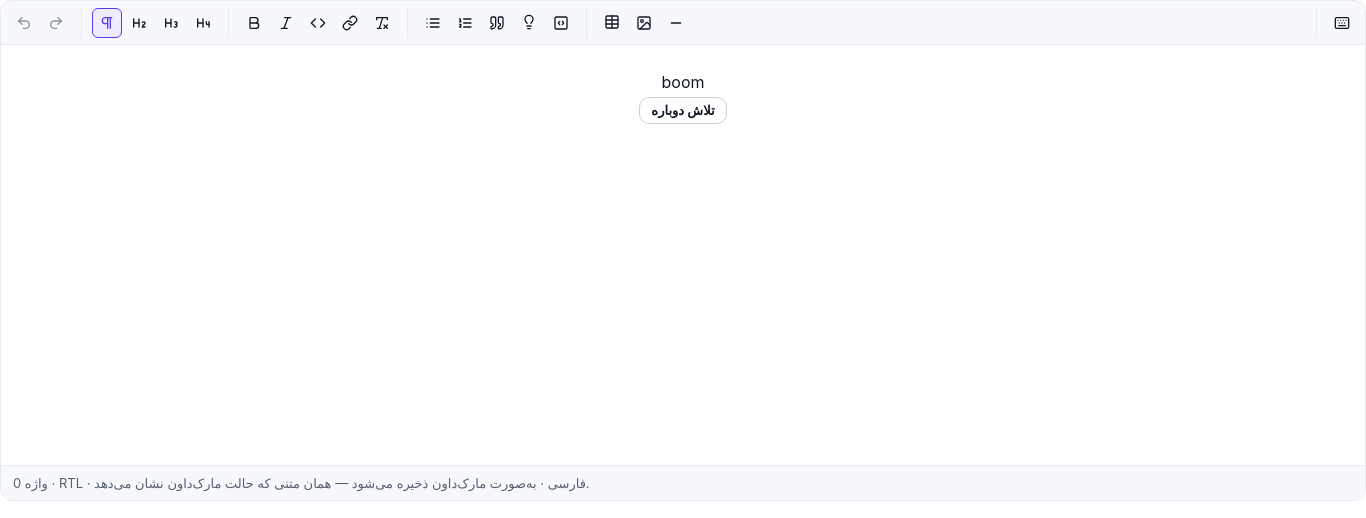
Test case: ContentEditor › uses the server renderer for Markdown it has no blocks for and surfaces failures with retry
Expected: the message shows "boom", left=662, top=72, right=704, bottom=92
Click the button "تلاش دوباره".
click(683, 111)  # box left=639, top=97, right=727, bottom=124
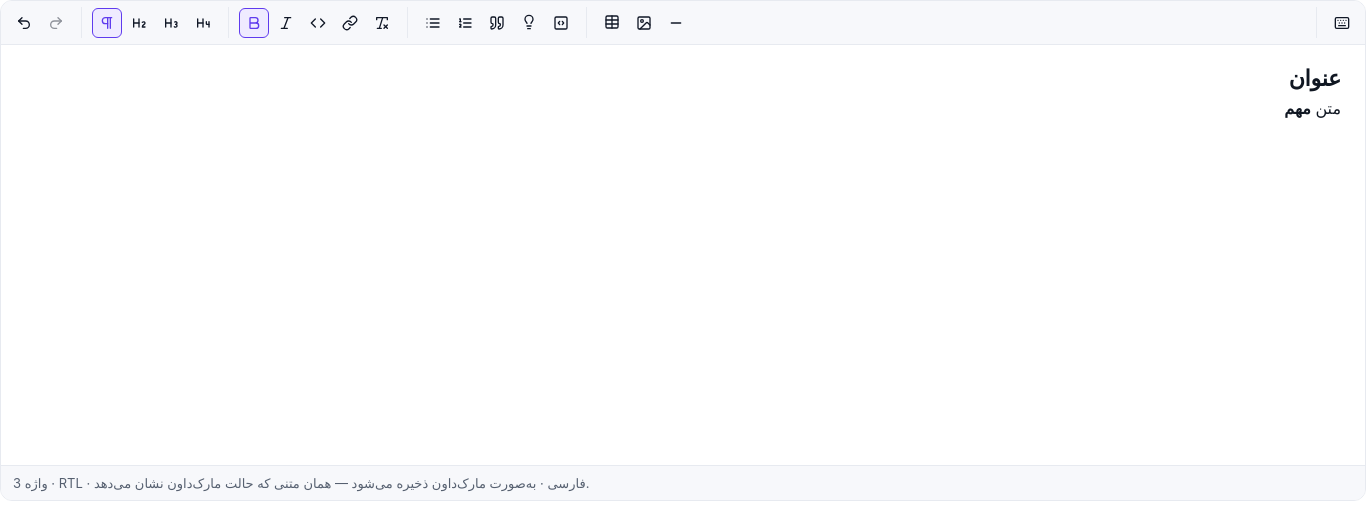
Now the heading "عنوان" is shown, box left=1289, top=65, right=1341, bottom=91
